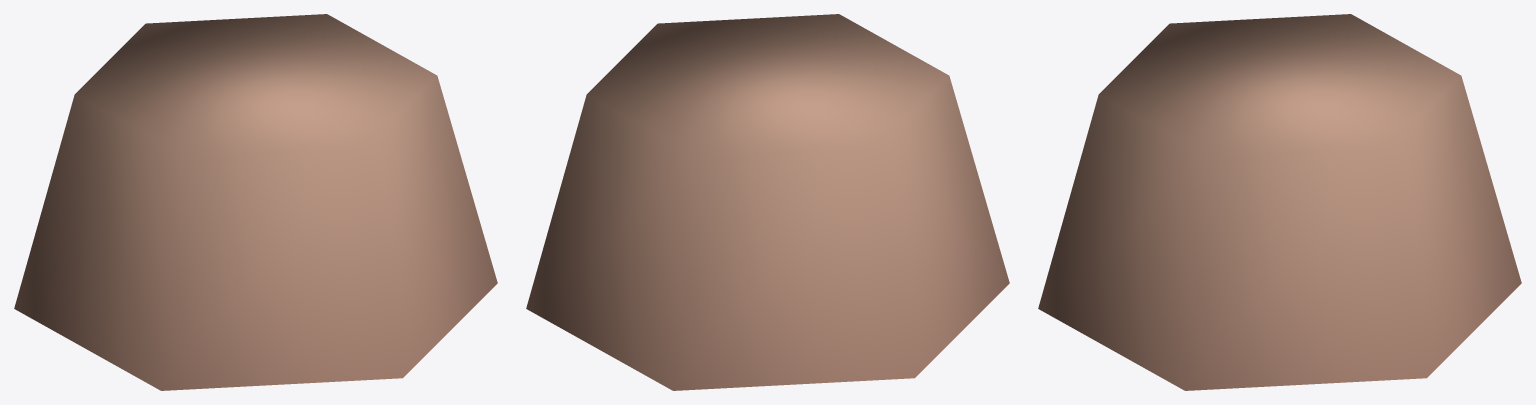
Rendered from (%no-merge)_0.glb.
3 views of the same model, side by side, from view 1: azimuth 30°, elevation 25°; view 2: azimuth 150°, elevation 25°; view 3: azimuth 270°, elevation 25° (orthographic).
Parts seen in each view (by area): view 1: (%no-merge); view 2: (%no-merge); view 3: (%no-merge).
Boxes of the visible parts, x1,y1,x2,y2 form: (%no-merge): (14,14,497,390); (%no-merge): (526,14,1009,390); (%no-merge): (1038,14,1521,390).
Bounding box in the file's own units: 0.0386 × 0.02 × 0.0416.
